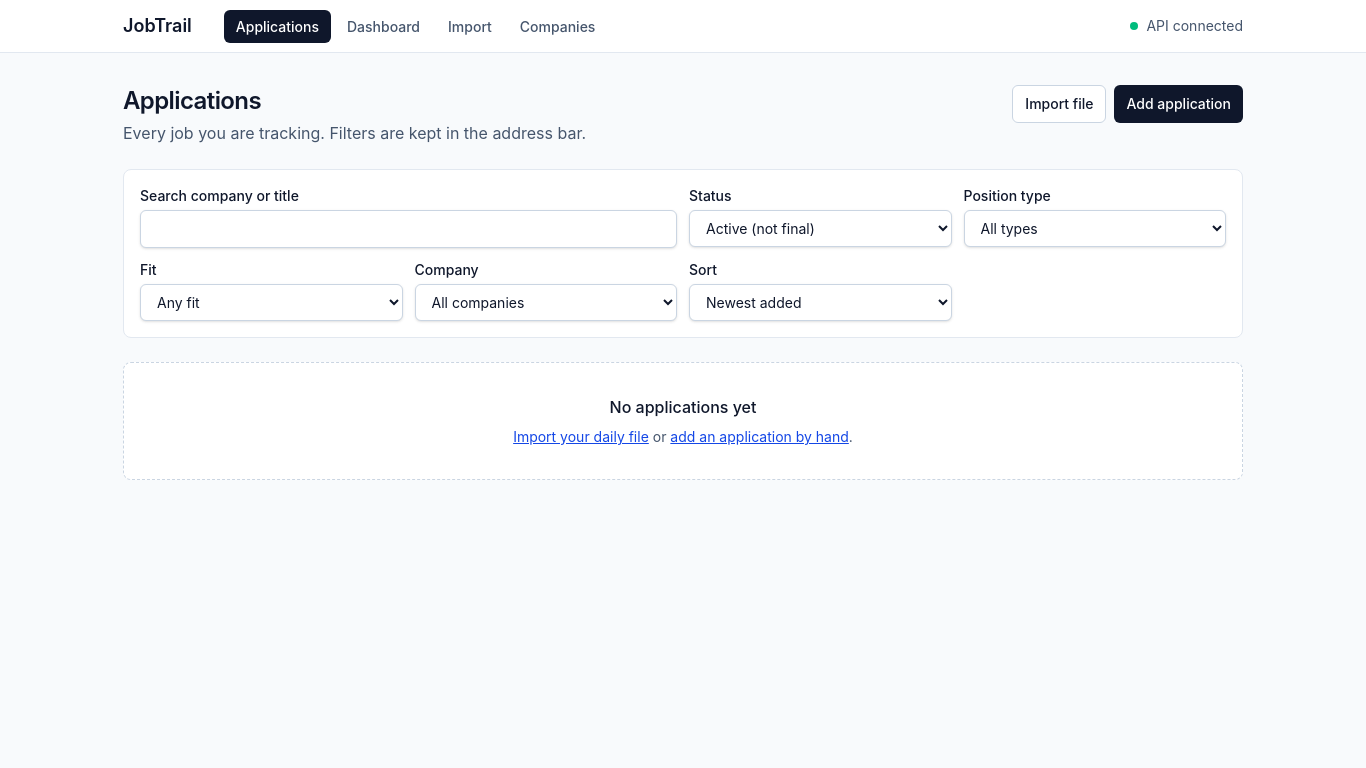
it: App › moves focus to the main content after navigating, not when filtering
Type "acme" into the search field labelled "Search company or title" at x=408, y=229, box [140, 210, 677, 248]
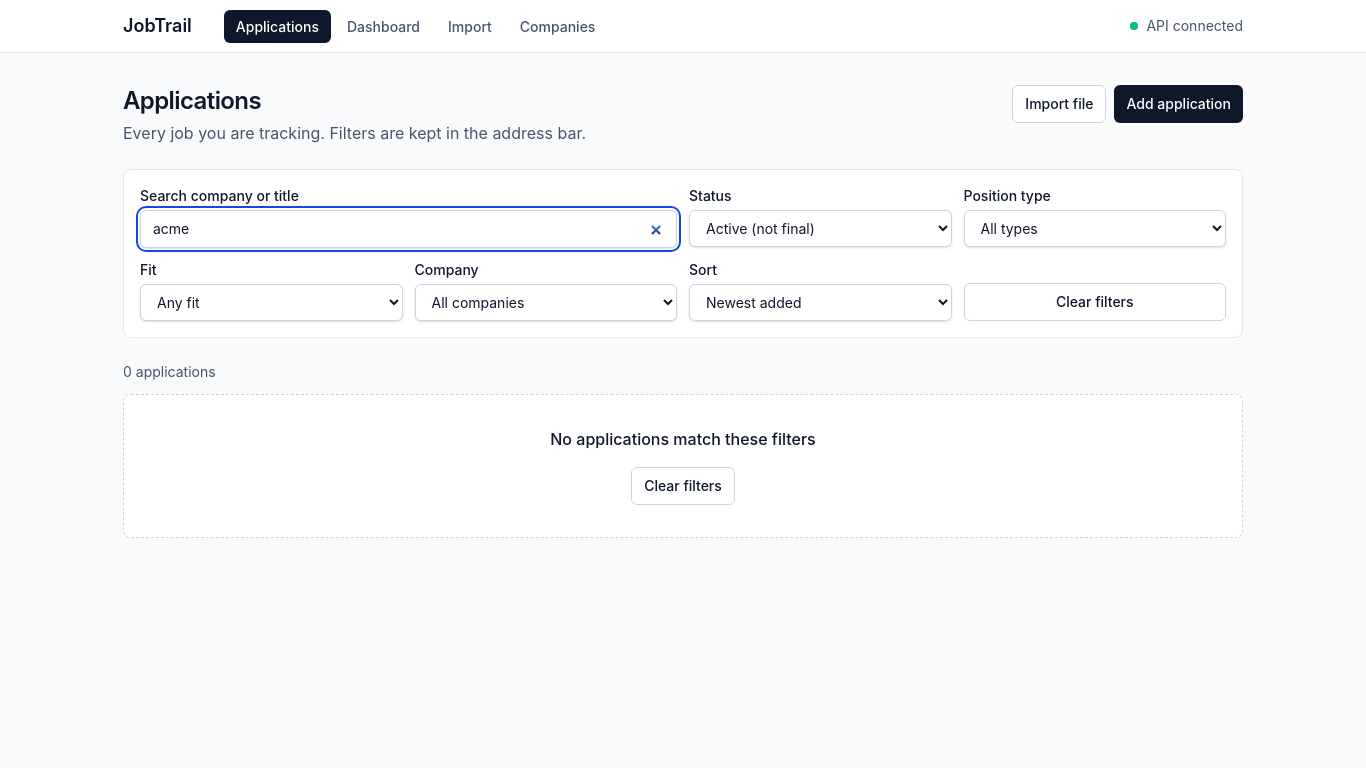
Click the link "Dashboard" at x=384, y=26, box [347, 18, 420, 35]
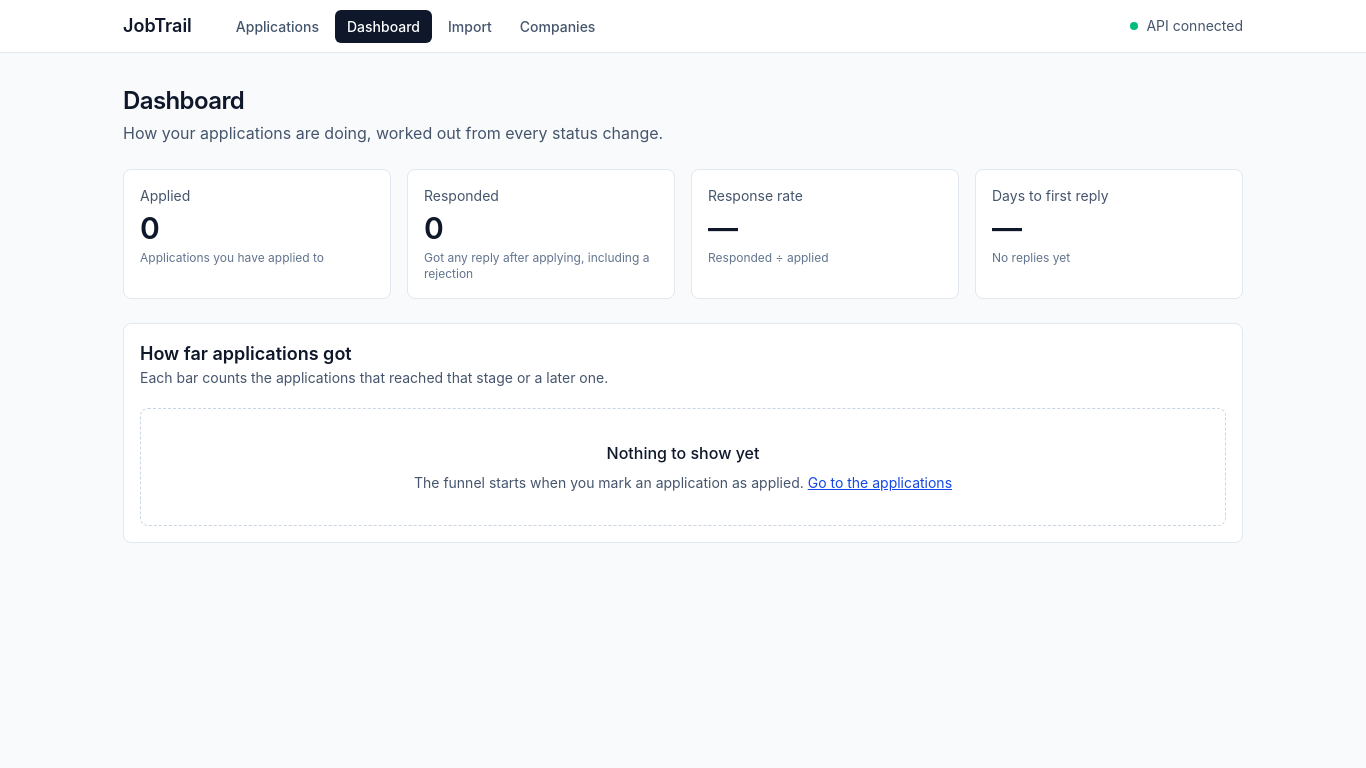
Result: the heading "Dashboard" is shown at [123, 86, 244, 115]
